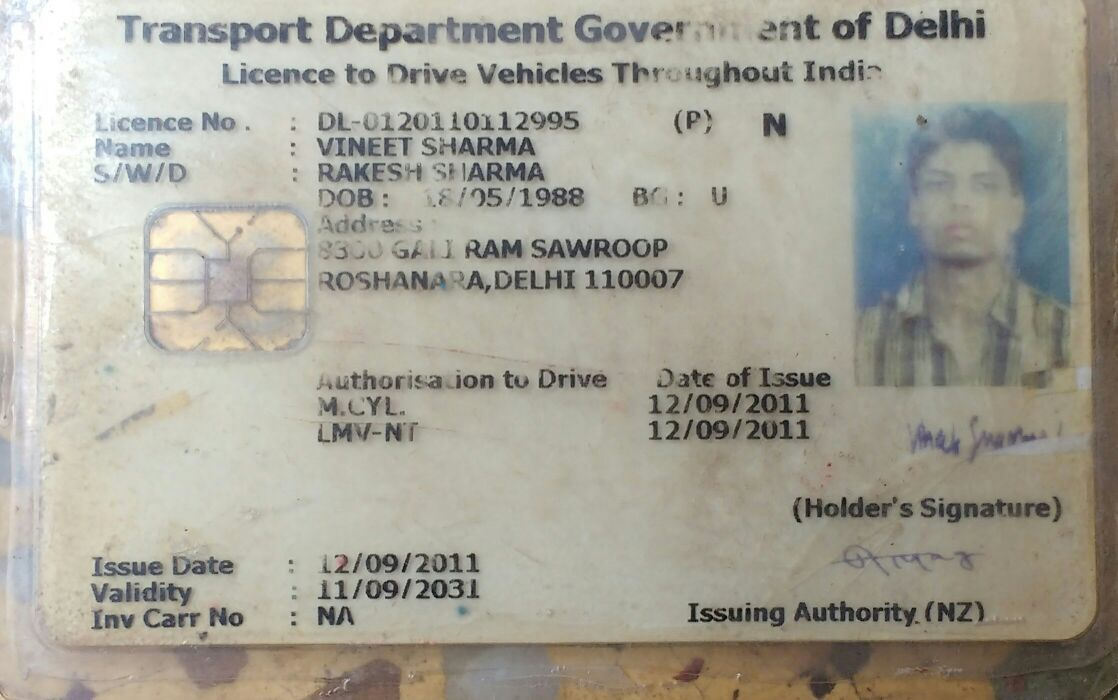text: (93, 154, 547, 190), (91, 107, 583, 135), (88, 131, 548, 160), (317, 182, 589, 213)
